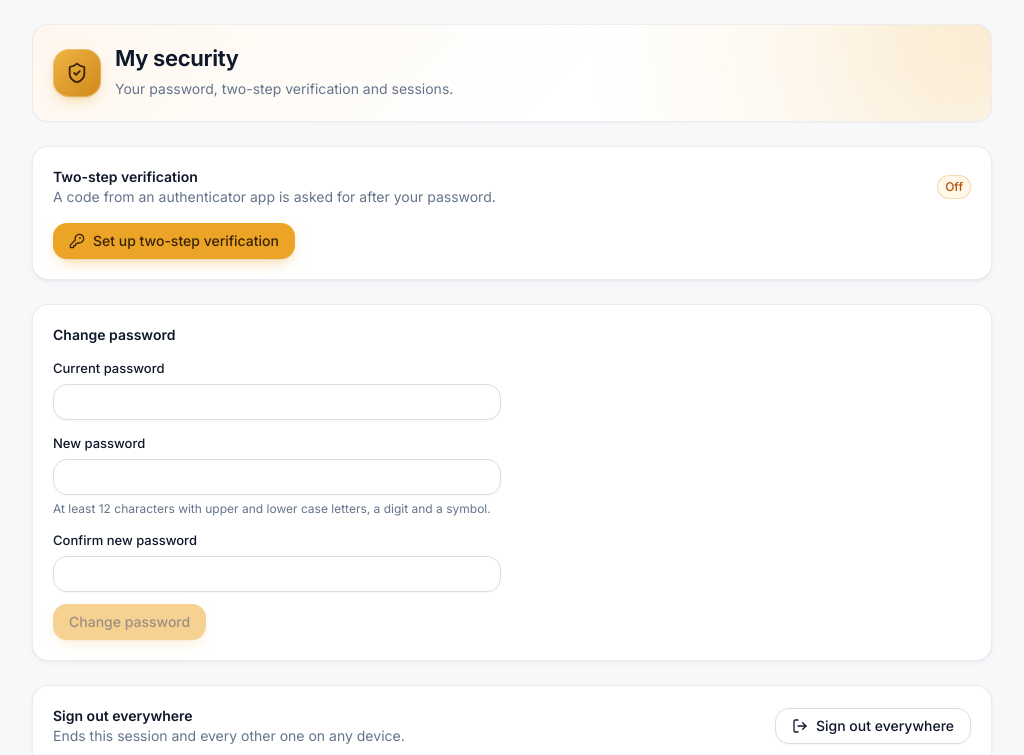
Test: My security › will not change the password when the confirmation differs, and sends nothing
Type "old-Password1!" into the password field labelled "Current password". click: x=277, y=402
box: [53, 384, 501, 420]
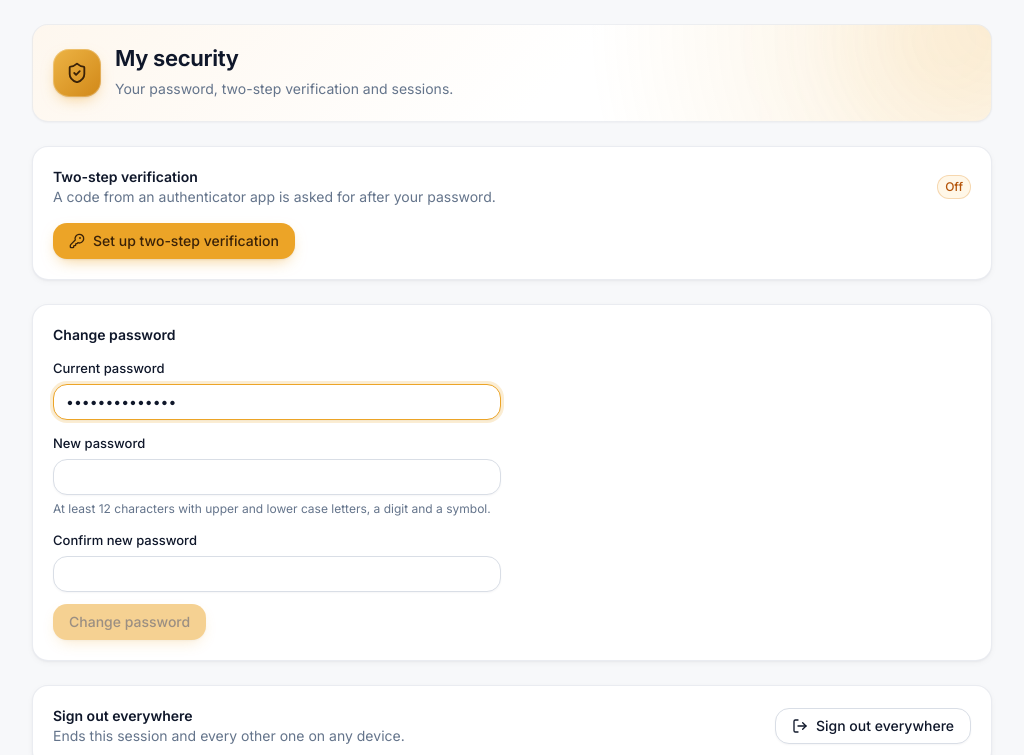
Type "New-Password1!" into the password field labelled "New password". click: x=277, y=476
box: [53, 458, 501, 494]
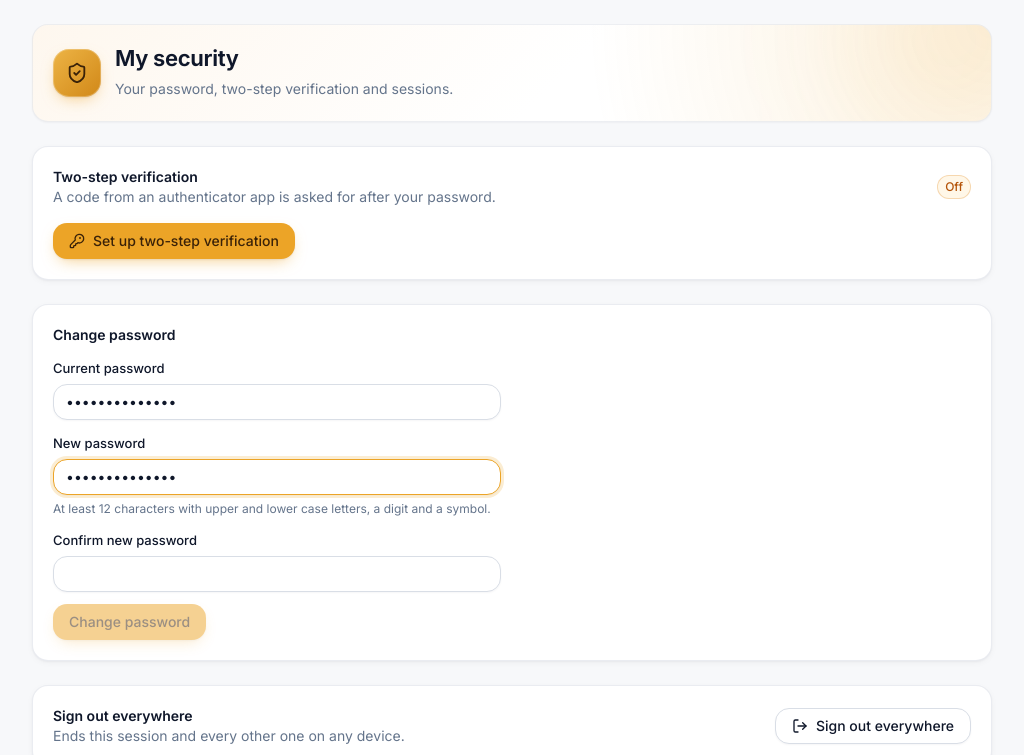
Type "Different1!" into the password field labelled "Confirm new password". click: x=277, y=574
box: [53, 556, 501, 592]
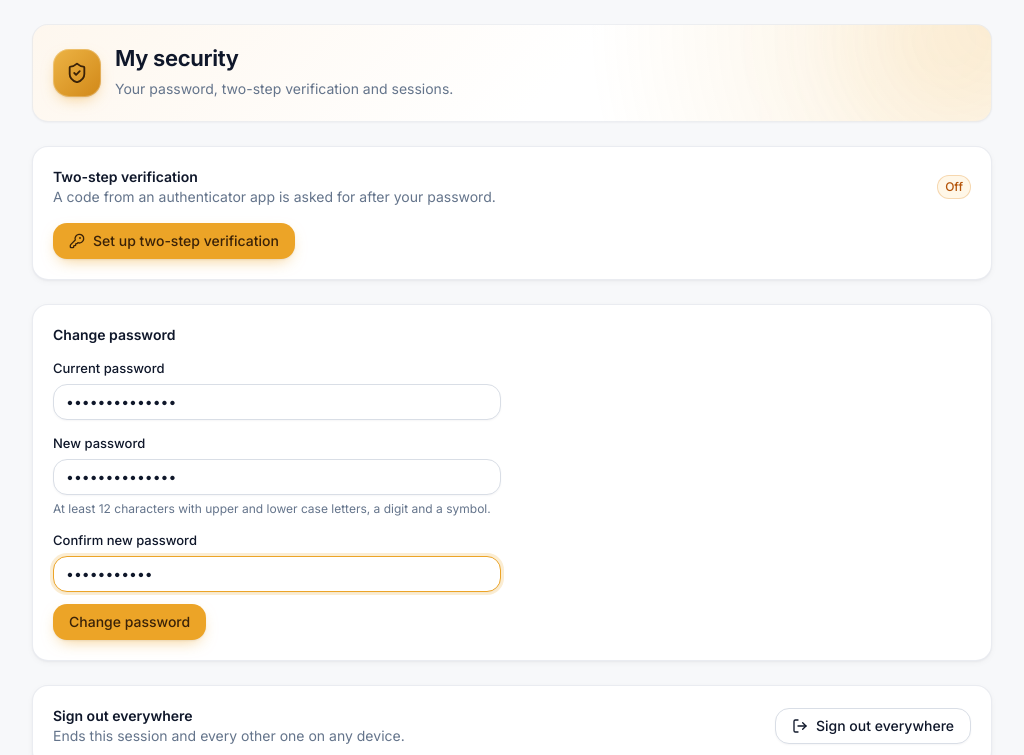
Click the button "Change password". click: x=130, y=622
box: [53, 604, 206, 640]
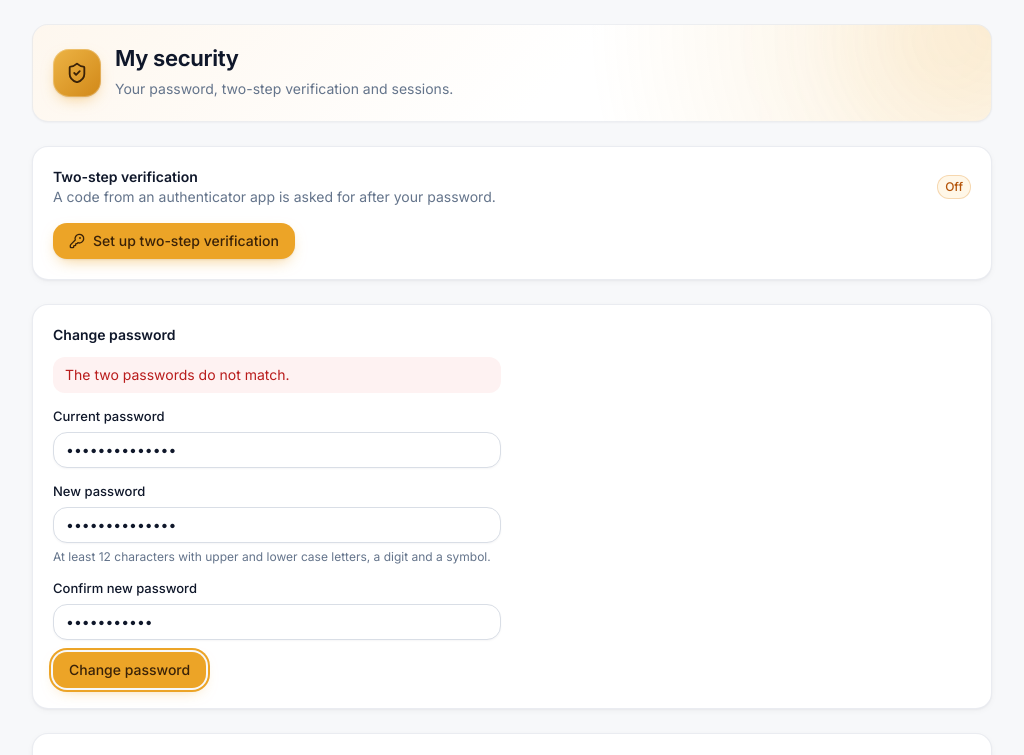
Expected: the text "The two passwords do not match." is shown, [53, 356, 501, 392]
